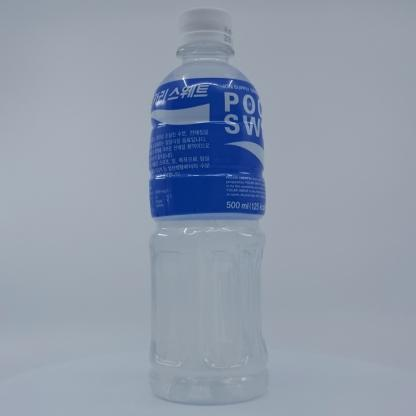--------500ML: (149, 8, 269, 405)
